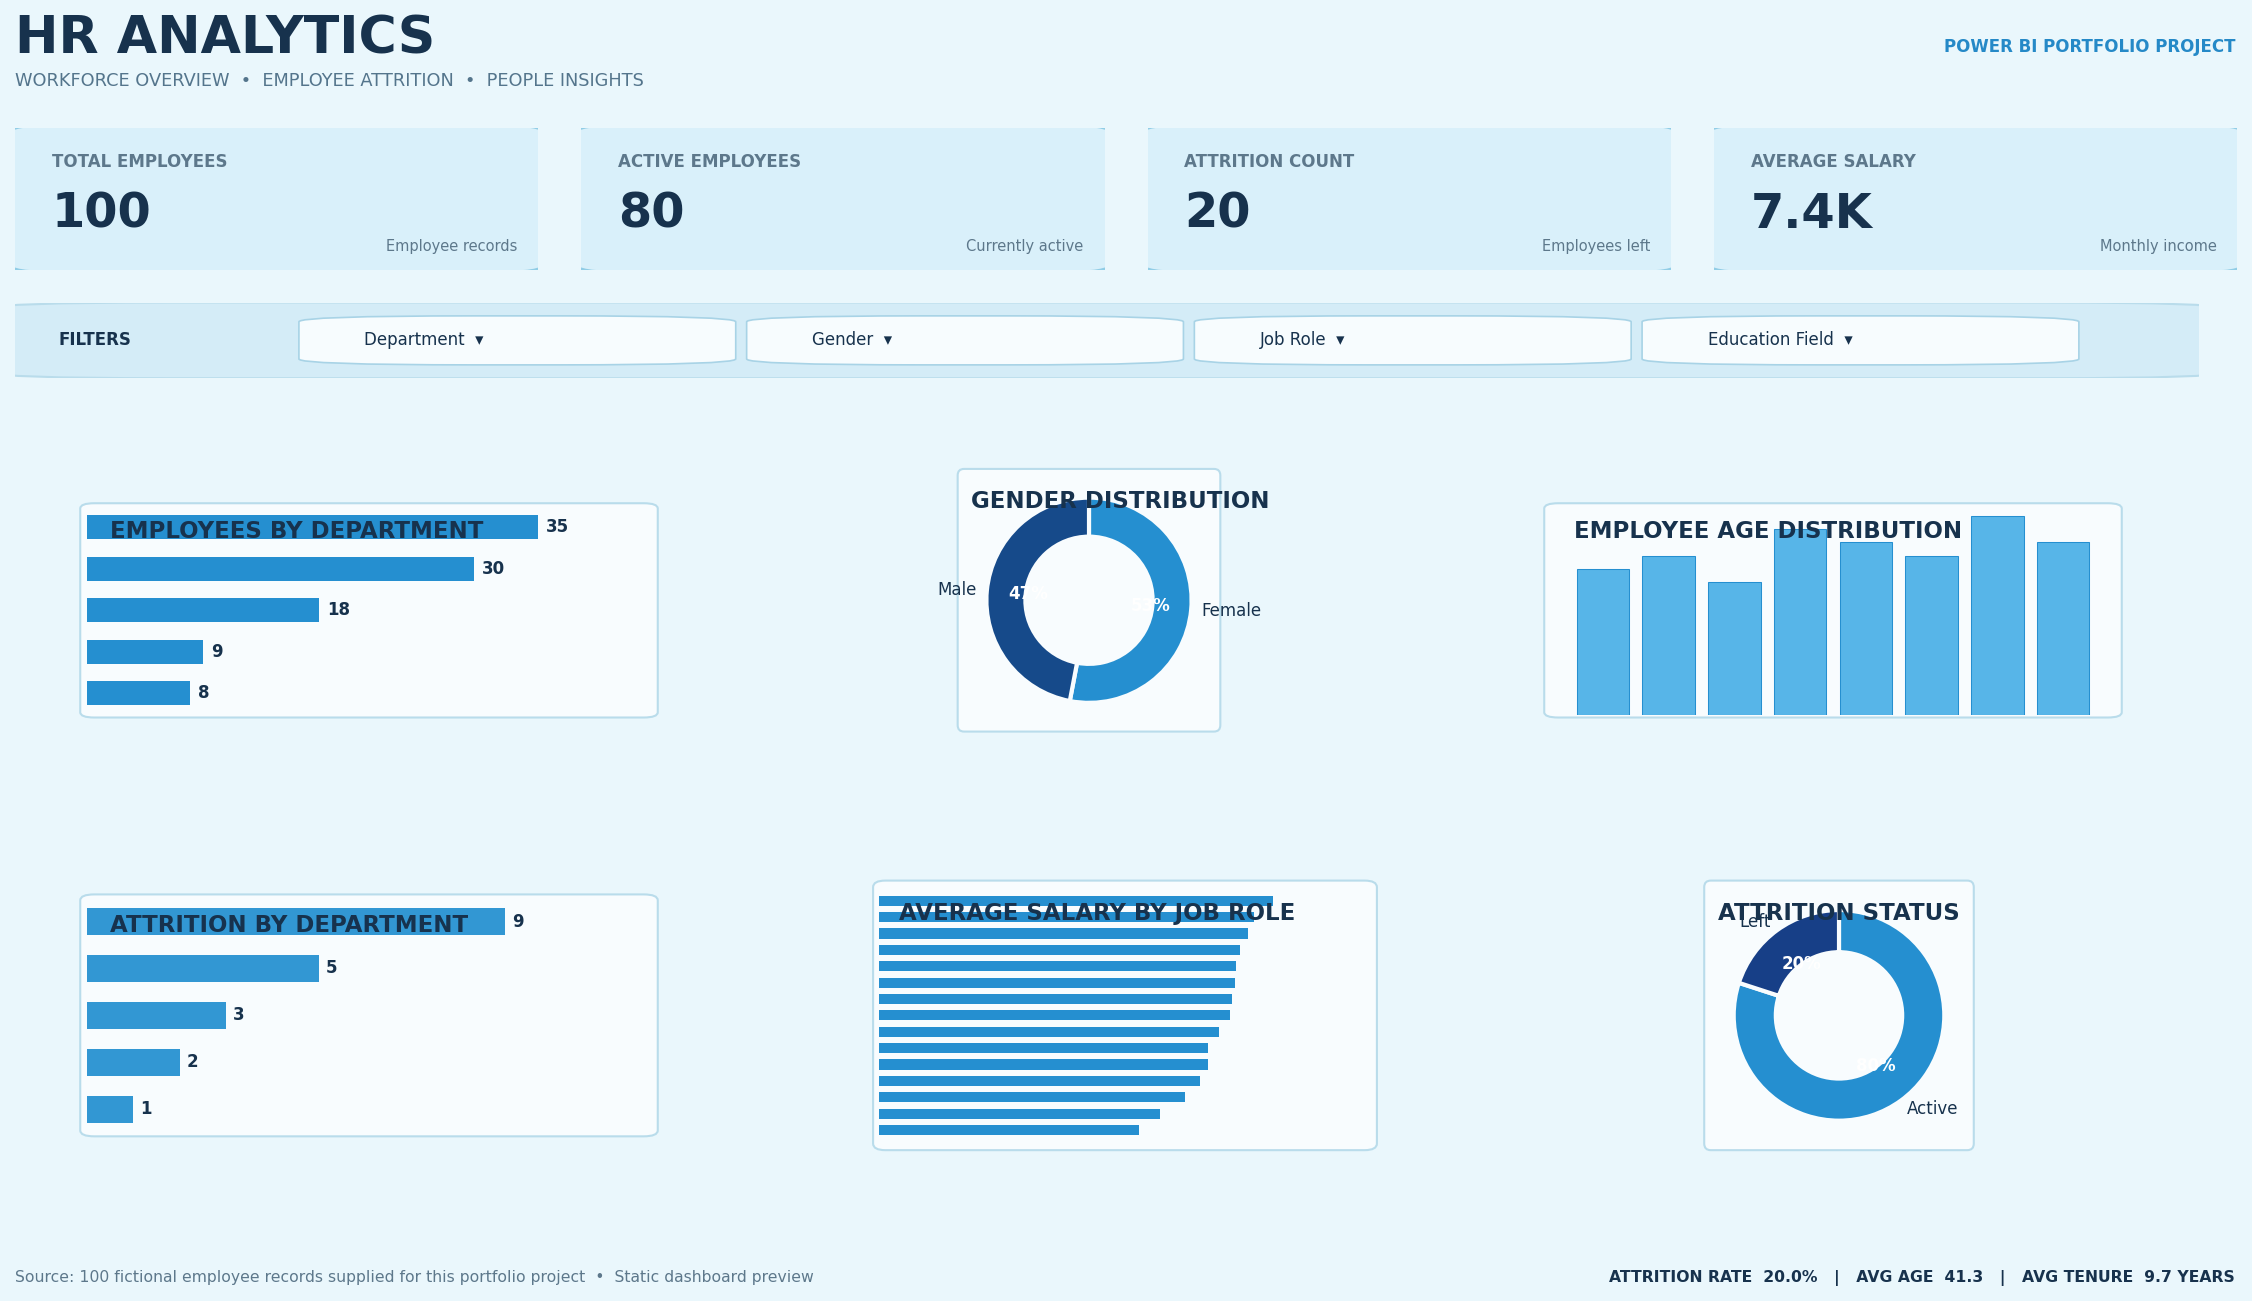

The dashboard page shown, as its layout file describes it:
{"tool":"powerbi","page":{"name":"Dashboard","canvas":[1920,1080],"ordinal":0},"visuals":[{"type":"cardVisual","fields":{"Data":["HRData.Total Employees"]},"box":[776.1,22.7,231.8,191.5],"z":0},{"type":"cardVisual","fields":{"Data":["HRData.Active Employees"]},"box":[1028,20.2,262,196.5],"z":1},{"type":"cardVisual","fields":{"Data":["HRData.Attrition Count"]},"box":[1315.3,20.2,257,183.9],"z":2},{"type":"cardVisual","fields":{"Data":["HRData.Average Salary"]},"box":[1600,17.6,279.7,189],"z":3},{"type":"clusteredBarChart","title":"Employees by Department","fields":{"Category":["HRData.Department"],"Y":["CountNonNull(HRData.EmployeeID)"]},"box":[330.1,234.3,473.7,378],"z":4},{"type":"donutChart","title":"Gender Distribution","fields":{"Category":["HRData.Gender"],"Y":["CountNonNull(HRData.EmployeeID)"]},"box":[1423.6,221.7,476,408],"z":5},{"type":"clusteredColumnChart","title":"Employee Age Distribution","fields":{"Category":["HRData.Age"],"Y":["CountNonNull(HRData.EmployeeID)"]},"box":[851.7,234.3,536.7,378],"z":6},{"type":"clusteredBarChart","title":"Attrition by Department","fields":{"Category":["HRData.Department"],"Y":["HRData.Attrition Count"]},"box":[1388.3,662.7,511.5,375.4],"z":7},{"type":"clusteredBarChart","fields":{"Category":["HRData.JobRole"],"Y":["HRData.Average Salary"]},"box":[287.2,629.9,564.4,408.2],"z":8},{"type":"donutChart","title":"Attrition Status","fields":{"Category":["HRData.Attrition"],"Y":["CountNonNull(HRData.EmployeeID)"]},"box":[892,662.7,463.6,393.1],"z":9},{"type":"slicer","fields":{"Values":["HRData.Department"]},"box":[17.6,443.5,287.2,186.5],"z":10},{"type":"slicer","fields":{"Values":["HRData.Gender"]},"box":[17.6,234.3,287.2,191.5],"z":11},{"type":"slicer","fields":{"Values":["HRData.JobRole"]},"box":[17.6,660.2,252,173.9],"z":12},{"type":"slicer","fields":{"Values":["HRData.EducationField"]},"box":[17.6,859.2,252,178.9],"z":13},{"type":"actionButton","box":[0,0,100,40],"z":14},{"type":"textbox","box":[50.4,40.3,667.7,133.5],"z":15}]}

Visuals, with their boxes in screenshot pixels (x1, y1, x2, y2), scaled from the page's 1920x1080 canvas onto the 2252x1301 screenshot:
cardVisual - HRData.Total Employees: select_region(910, 27, 1182, 258)
cardVisual - HRData.Active Employees: select_region(1206, 24, 1513, 261)
cardVisual - HRData.Attrition Count: select_region(1543, 24, 1844, 246)
cardVisual - HRData.Average Salary: select_region(1877, 21, 2205, 249)
"Employees by Department" clusteredBarChart: select_region(387, 282, 943, 738)
"Gender Distribution" donutChart: select_region(1670, 267, 2228, 759)
"Employee Age Distribution" clusteredColumnChart: select_region(999, 282, 1628, 738)
"Attrition by Department" clusteredBarChart: select_region(1628, 798, 2228, 1251)
clusteredBarChart - HRData.JobRole x HRData.Average Salary: select_region(337, 759, 999, 1251)
"Attrition Status" donutChart: select_region(1046, 798, 1590, 1272)
slicer - HRData.Department: select_region(21, 534, 358, 759)
slicer - HRData.Gender: select_region(21, 282, 358, 513)
slicer - HRData.JobRole: select_region(21, 795, 316, 1005)
slicer - HRData.EducationField: select_region(21, 1035, 316, 1251)
actionButton: select_region(0, 0, 117, 48)
textbox: select_region(59, 49, 842, 209)
